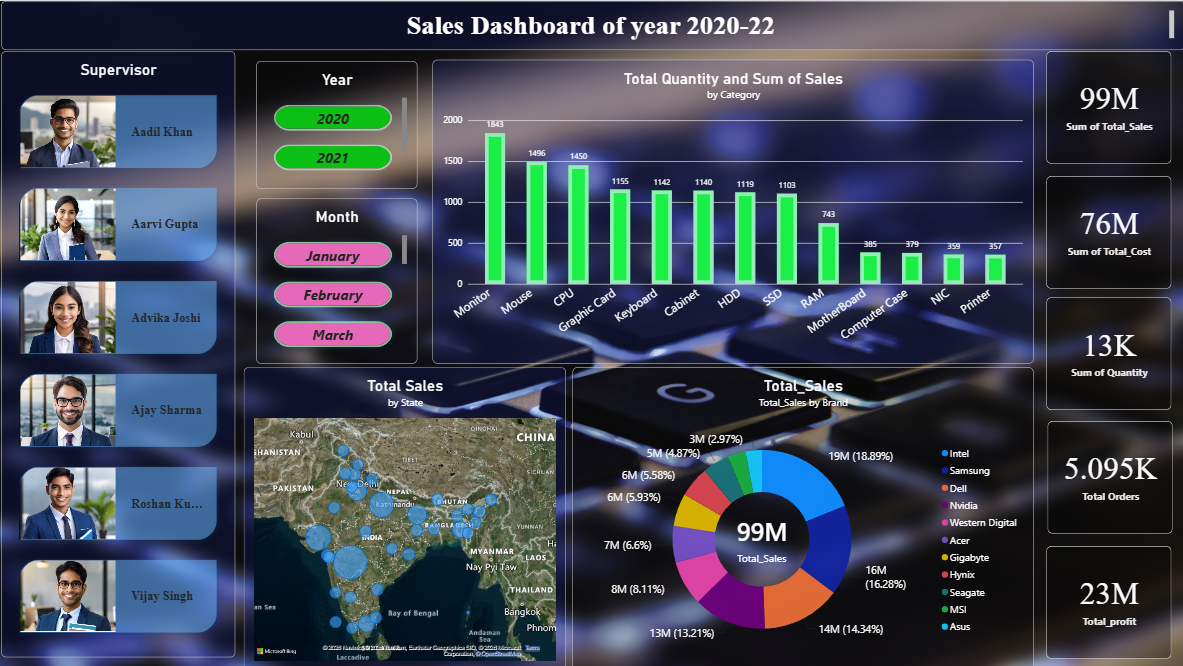

Layout of this report page (visuals, bound fields, positions):
{"tool":"powerbi","page":{"name":"Page 1","canvas":[1920,1080],"ordinal":0},"visuals":[{"type":"textbox","box":[10.2,0,1910.2,79.5],"z":0},{"type":"cardVisual","fields":{"Data":["Sum(Sales_Data.Total_Sales)"]},"box":[1696.2,81.5,202,182],"z":1},{"type":"cardVisual","fields":{"Data":["Sum(Sales_Data.Total_Cost)"]},"box":[1696.2,283.4,202,182],"z":2},{"type":"cardVisual","fields":{"Data":["Sum(Sales_Data.Quantity)"]},"box":[1696.2,479.1,202,182],"z":3},{"type":"cardVisual","fields":{"Data":["CountNonNull(Sales_Data.Order_Number)"]},"box":[1698.2,676.8,202,182],"z":4},{"type":"cardVisual","fields":{"Data":["Sales_Data.Total_profit"]},"box":[1696.2,878.7,202,182],"z":5},{"type":"columnChart","fields":{"Category":["Sales_Data.Category"],"Y":["Sum(Sales_Data.Quantity)"]},"box":[705.4,95.8,970,490],"z":6},{"type":"donutChart","title":" Total_Sales","fields":{"Category":["Sales_Data.Brand"],"Y":["Sum(Sales_Data.Total_Sales)"]},"box":[931.4,590.4,743.9,490.2],"z":7},{"type":"map","fields":{"Category":["State_list.State"],"Size":["Sum(Sales_Data.Sales)"]},"box":[400.7,590.4,520.1,490.2],"z":8},{"type":"listSlicer","fields":{"Values":["Supervisor.Supervisor"]},"box":[10.7,81,377.3,978.3],"z":9},{"type":"listSlicer","fields":{"Values":["Sales_Data.Order_Date.Variation.Date Hierarchy.Year"]},"box":[422,95.9,260,206.8],"z":10},{"type":"listSlicer","fields":{"Values":["Sales_Data.Order_Date.Variation.Date Hierarchy.Month"]},"box":[422,319.7,260,266.4],"z":11}]}

Visuals, with their boxes in screenshot pixels (x1, y1, x2, y2), scaled from the page's 1920x1080 canvas onto the 1183x666 screenshot:
textbox: bbox(6, 0, 1182, 49)
cardVisual - Sum(Sales_Data.Total_Sales): bbox(1045, 50, 1170, 162)
cardVisual - Sum(Sales_Data.Total_Cost): bbox(1045, 175, 1170, 287)
cardVisual - Sum(Sales_Data.Quantity): bbox(1045, 295, 1170, 408)
cardVisual - CountNonNull(Sales_Data.Order_Number): bbox(1046, 417, 1171, 530)
cardVisual - Sales_Data.Total_profit: bbox(1045, 542, 1170, 654)
columnChart - Sales_Data.Category x Sum(Sales_Data.Quantity): bbox(435, 59, 1032, 361)
" Total_Sales" donutChart: bbox(574, 364, 1032, 665)
map - State_list.State x Sum(Sales_Data.Sales): bbox(247, 364, 567, 665)
listSlicer - Supervisor.Supervisor: bbox(7, 50, 239, 653)
listSlicer - Sales_Data.Order_Date.Variation.Date Hierarchy.Year: bbox(260, 59, 420, 187)
listSlicer - Sales_Data.Order_Date.Variation.Date Hierarchy.Month: bbox(260, 197, 420, 361)
